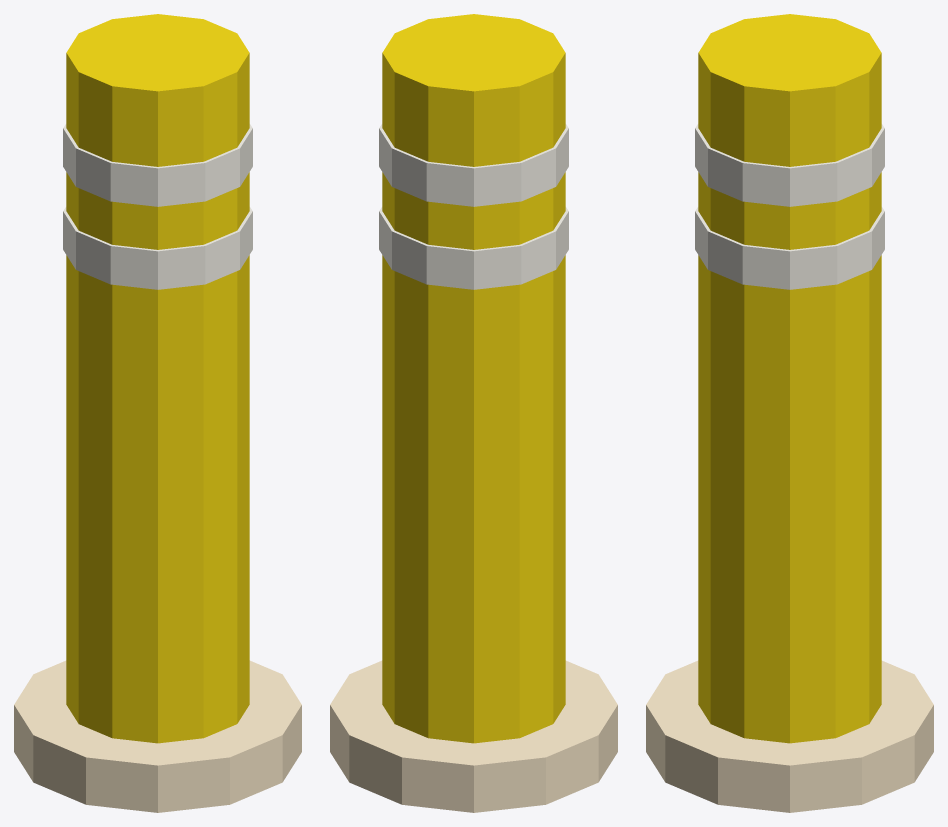
Rendered from Street_Yellow_Bollard.glb.
The picture shows the model from 3 angles, left to right: view 1: azimuth 30°, elevation 25°; view 2: azimuth 150°, elevation 25°; view 3: azimuth 270°, elevation 25°; orthographic projection.
Parts seen in each view (by area): view 1: Street_Yellow_Bollard; view 2: Street_Yellow_Bollard; view 3: Street_Yellow_Bollard.
Part boxes in pixels (bbox=[...]): Street_Yellow_Bollard: bbox=[14, 14, 301, 812]; Street_Yellow_Bollard: bbox=[330, 14, 617, 812]; Street_Yellow_Bollard: bbox=[646, 14, 933, 812].
Bounding box in the file's own units: 0.44 × 1.18 × 0.44.
